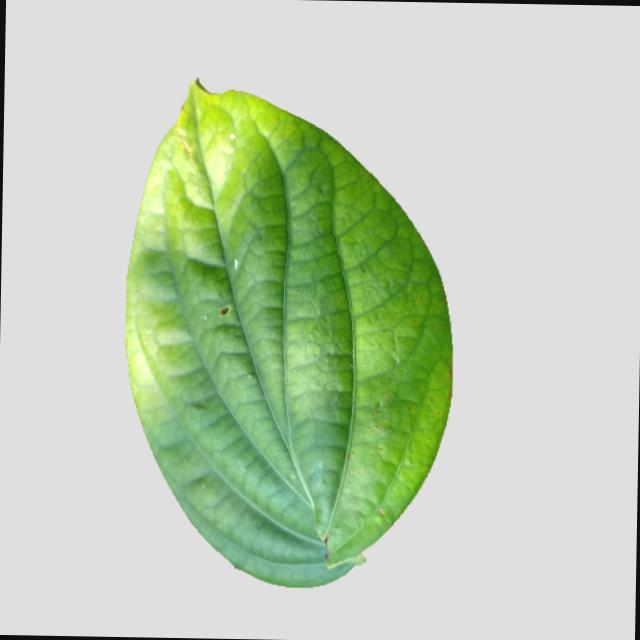healthy: (88, 64, 466, 596)
